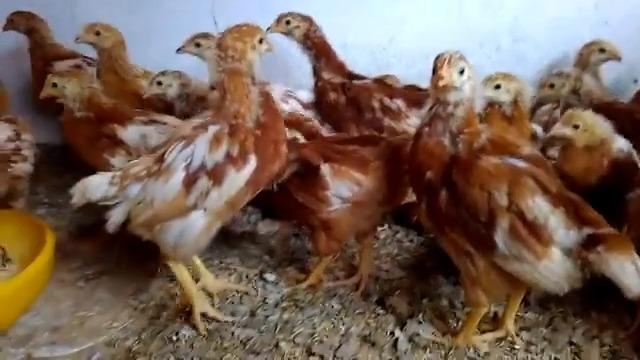Normal: (417, 48, 640, 360)
